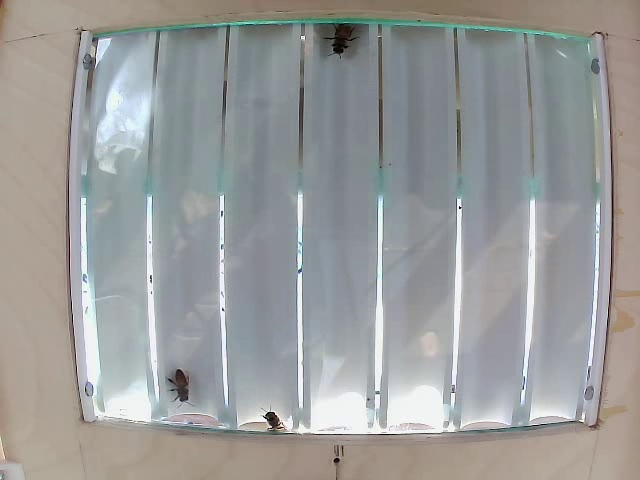bee: (325, 20, 359, 72), (161, 372, 204, 411), (258, 407, 295, 446)
